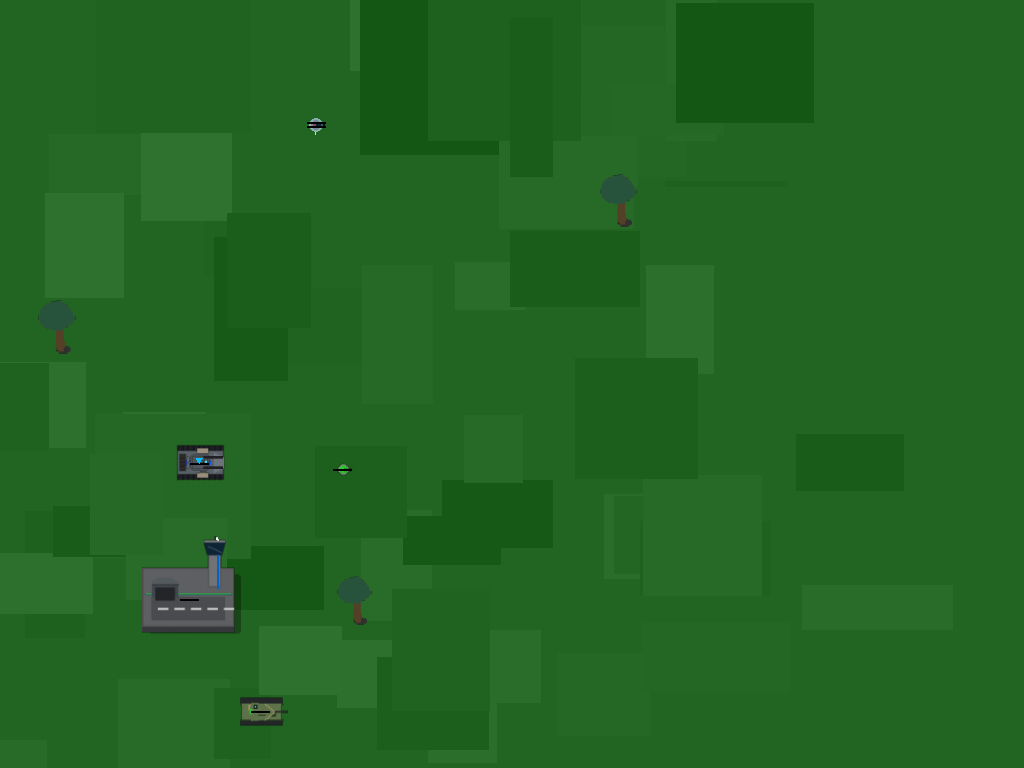Airfield: (236, 686, 285, 735)
Bunker: (302, 111, 329, 138)
HeavyMech: (143, 552, 234, 643)
M1A2_rus: (176, 439, 221, 484)
PowerPlant: (328, 454, 355, 481)
